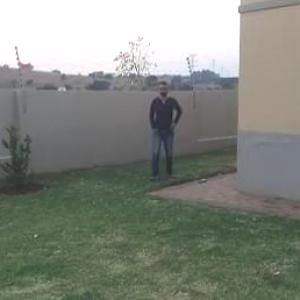follow: (148, 76, 183, 184)
